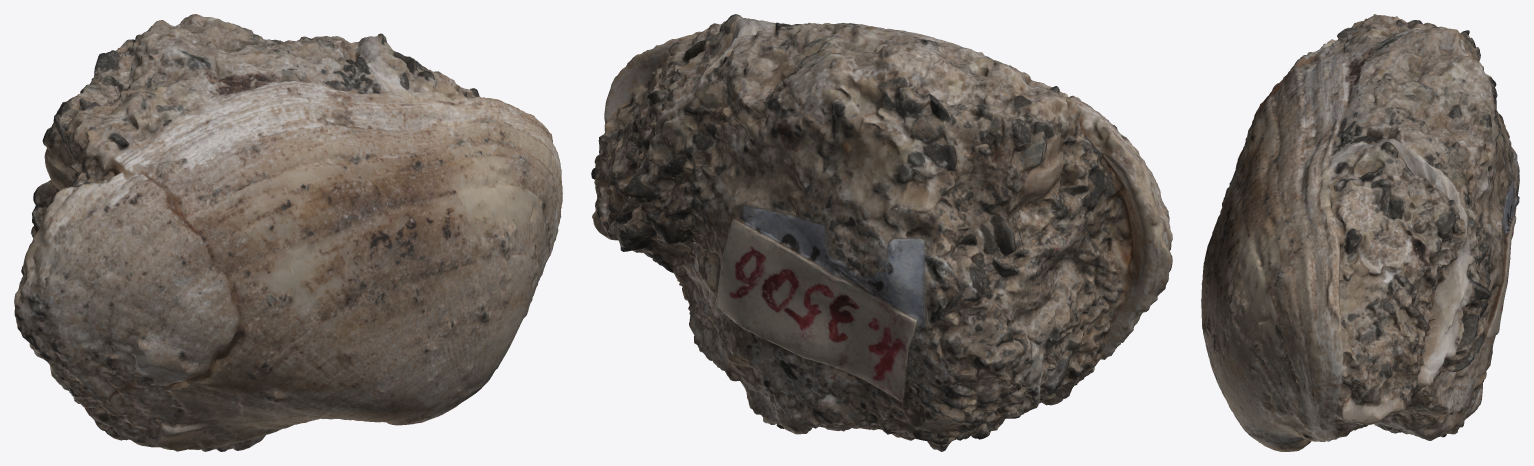
File: EWS0016591.glb
3 renders of one model, left to right at view 1: azimuth 30°, elevation 25°; view 2: azimuth 150°, elevation 25°; view 3: azimuth 270°, elevation 25°, orthographic. The views are drawn at different scales.
Parts seen in each view (by area): view 1: input; view 2: input; view 3: input.
Boxes of the visible parts, x1=… form: input: x1=14, y1=14, x2=562, y2=451; input: x1=591, y1=14, x2=1172, y2=451; input: x1=1201, y1=14, x2=1519, y2=451.
Size of the model in its own units: 0.0291 by 0.0203 by 0.0161.
1 material, 1 textured.
